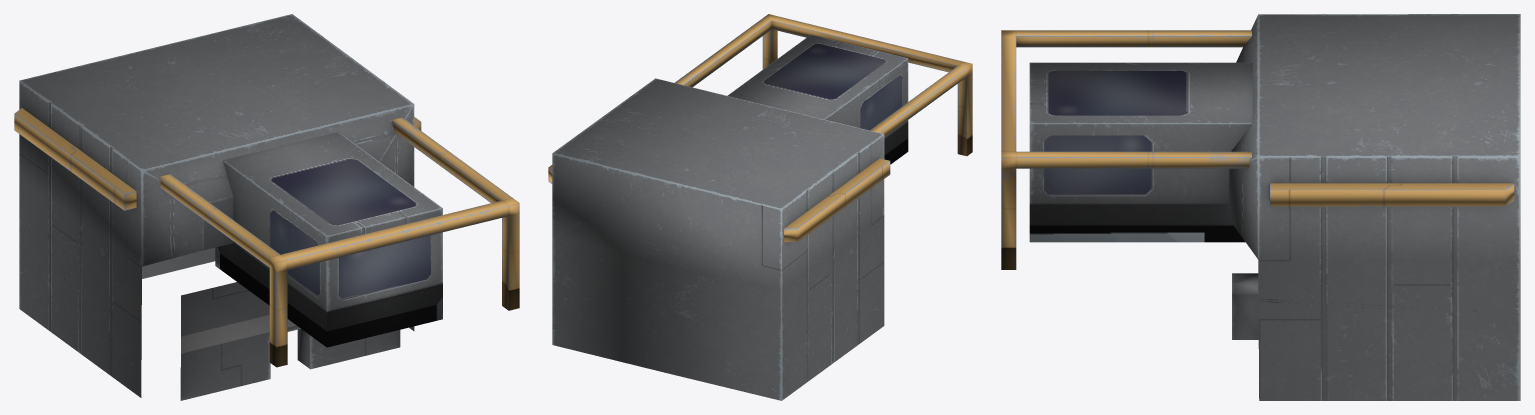
File: Spaceship_room_mdl.fbx
3 views of the same model, side by side, from view 1: azimuth 30°, elevation 25°; view 2: azimuth 150°, elevation 25°; view 3: azimuth 270°, elevation 25° (orthographic). The views are drawn at different scales.
Visible parts, largest first — view 1: spaceship_room_mdl; view 2: spaceship_room_mdl; view 3: spaceship_room_mdl.
Boxes of the visible parts, bbox=[...] form: spaceship_room_mdl: bbox=[14, 14, 519, 400]; spaceship_room_mdl: bbox=[548, 14, 972, 400]; spaceship_room_mdl: bbox=[1001, 14, 1520, 400].
Bounding box in the file's own units: 233 × 171 × 329.
